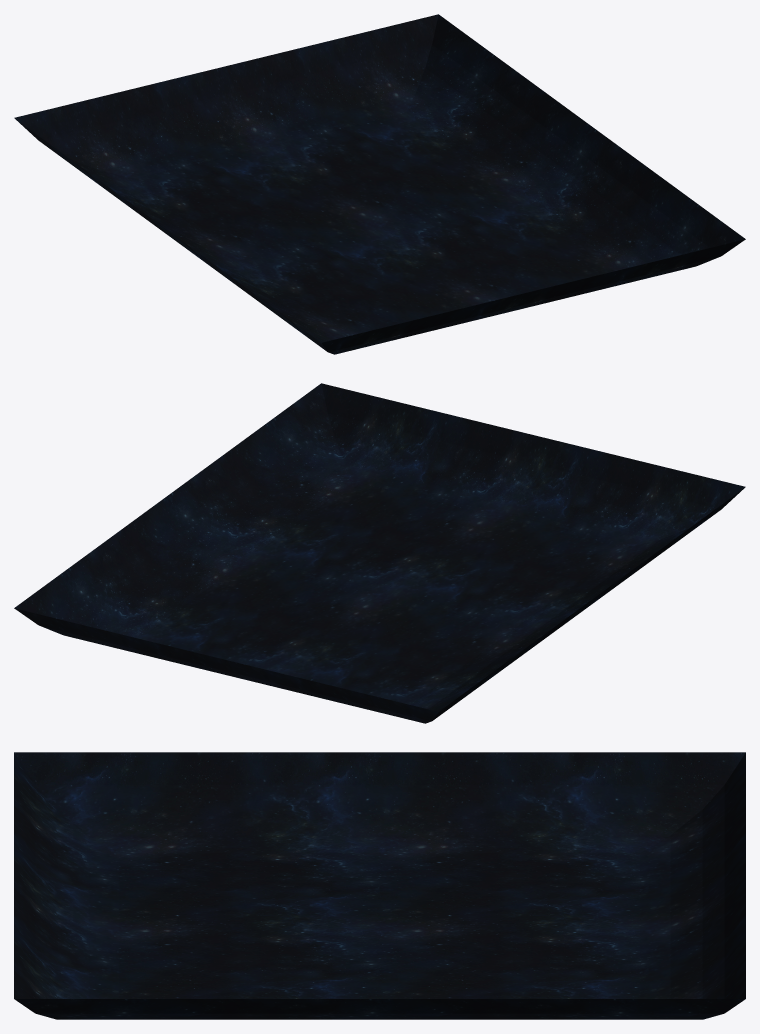
Rendered from ts_buzexk001.FBX.
3 views of the same model, one above another, from view 1: azimuth 30°, elevation 25°; view 2: azimuth 150°, elevation 25°; view 3: azimuth 270°, elevation 25° (orthographic). The views are drawn at different scales.
Visible parts, largest first — view 1: ts_buzexk001; view 2: ts_buzexk001; view 3: ts_buzexk001.
Boxes of the visible parts, x1,y1,x2,y2 form: ts_buzexk001: (14,14,745,354); ts_buzexk001: (14,383,745,723); ts_buzexk001: (14,752,745,1019).
Bounding box in the file's own units: 160 × 16.97 × 201.
